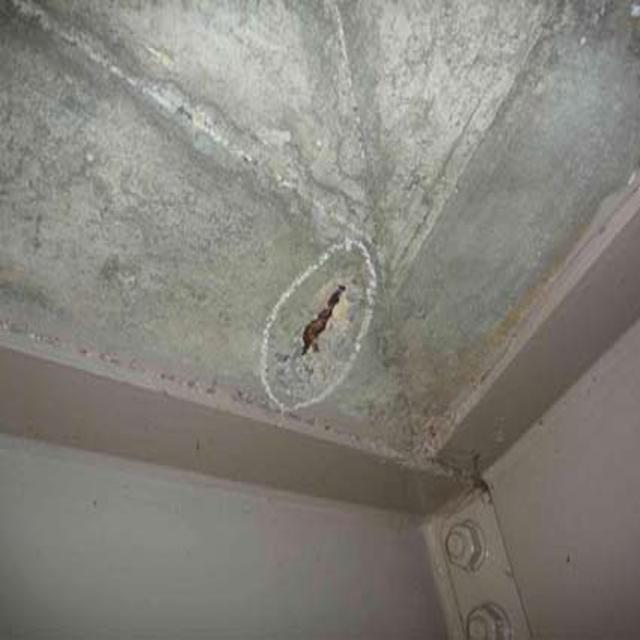spalling: (240, 241, 380, 403)
